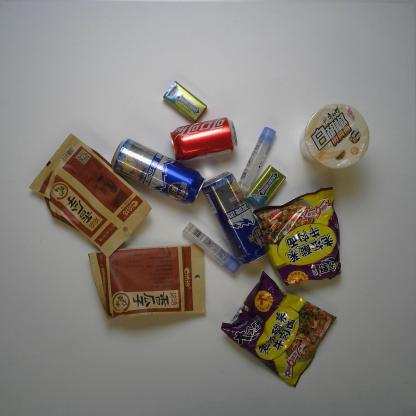Alcohol: (106, 135, 205, 205), (199, 170, 269, 266)
Dried Food: (29, 131, 153, 259), (87, 242, 208, 320)
Drink: (166, 116, 246, 163)
Gum: (160, 80, 206, 123), (247, 163, 288, 207)
Instant Noodles: (220, 269, 338, 388), (253, 186, 342, 286), (298, 100, 372, 171)
Stationery: (181, 223, 243, 274), (238, 125, 276, 191)
